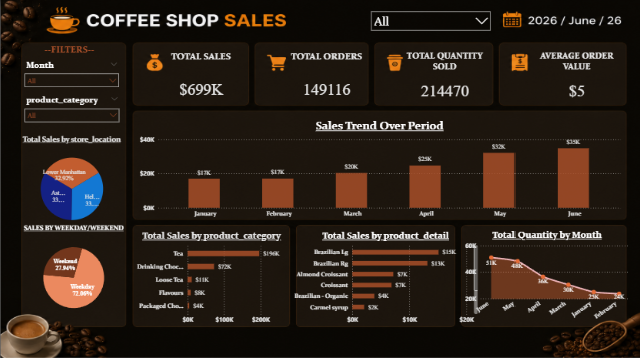

Layout of this report page (visuals, bound fields, positions):
{"tool":"powerbi","page":{"name":"Page 1","canvas":[1280,720],"ordinal":0},"visuals":[{"type":"card","title":"TOTAL SALES","fields":{"Values":["coffee_sales.Total Sales"]},"box":[280,83.3,240,150],"z":0},{"type":"card","title":"TOTAL ORDERS","fields":{"Values":["coffee_sales.Total Orders"]},"box":[572.2,83.7,157.5,150.1],"z":1000},{"type":"card","title":"TOTAL QUANTITY SOLD","fields":{"Values":["coffee_sales.Total Quantity"]},"box":[796.7,83.3,181.7,136.7],"z":2000},{"type":"card","title":"AVERAGE ORDER VALUE","fields":{"Values":["coffee_sales.Average Order Value"]},"box":[1056.7,83.3,185,136.7],"z":3000},{"type":"slicer","fields":{"Values":["coffee_sales.Month"]},"box":[38.1,102.1,207.9,81.2],"z":4000},{"type":"pieChart","title":"SALES BY WEEKDAY/WEEKEND","fields":{"Category":["coffee_sales.WeekdayWeekend"],"Y":["coffee_sales.Total Sales"]},"box":[25.8,441.7,223.9,212.9],"z":5000},{"type":"slicer","fields":{"Values":["coffee_sales.product_category"]},"box":[38.1,172.3,209.2,75.1],"z":7000},{"type":"textbox","box":[71.9,83.6,130.6,38.2],"z":8000},{"type":"clusteredColumnChart","title":"Sales Trend Over Period","fields":{"Category":["coffee_sales.transaction_date.Variation.Date Hierarchy.Month"],"Y":["coffee_sales.Total Sales"]},"box":[271.9,220.3,969.6,221.5],"z":9000},{"type":"pieChart","fields":{"Category":["coffee_sales.store_location"],"Y":["coffee_sales.Total Sales"]},"box":[30.8,251,223.9,217.8],"z":10000},{"type":"clusteredBarChart","fields":{"Category":["coffee_sales.product_category"],"Y":["coffee_sales.Total Sales"]},"box":[254.7,441.7,334.7,212.9],"z":11000},{"type":"clusteredBarChart","fields":{"Category":["coffee_sales.product_detail"],"Y":["coffee_sales.Total Sales"]},"box":[580.8,441.7,377.7,212.9],"z":12000},{"type":"areaChart","fields":{"Category":["coffee_sales.Month"],"Y":["coffee_sales.Total Quantity"]},"box":[921.2,440.8,336,214.6],"z":13000},{"type":"slicer","fields":{"Values":["coffee_sales.store_location"]},"box":[729.7,0,258.4,102.1],"z":13001}]}

Visuals, with their boxes in screenshot pixels (x1, y1, x2, y2), scaled from the page's 1280x720 canvas onto the 640x358 screenshot:
"TOTAL SALES" card: locate(140, 41, 260, 116)
"TOTAL ORDERS" card: locate(286, 42, 365, 116)
"TOTAL QUANTITY SOLD" card: locate(398, 41, 489, 109)
"AVERAGE ORDER VALUE" card: locate(528, 41, 621, 109)
slicer - coffee_sales.Month: locate(19, 51, 123, 91)
"SALES BY WEEKDAY/WEEKEND" pieChart: locate(13, 220, 125, 325)
slicer - coffee_sales.product_category: locate(19, 86, 124, 123)
textbox: locate(36, 42, 101, 61)
"Sales Trend Over Period" clusteredColumnChart: locate(136, 110, 621, 220)
pieChart - coffee_sales.store_location x coffee_sales.Total Sales: locate(15, 125, 127, 233)
clusteredBarChart - coffee_sales.product_category x coffee_sales.Total Sales: locate(127, 220, 295, 325)
clusteredBarChart - coffee_sales.product_detail x coffee_sales.Total Sales: locate(290, 220, 479, 325)
areaChart - coffee_sales.Month x coffee_sales.Total Quantity: locate(461, 219, 629, 326)
slicer - coffee_sales.store_location: locate(365, 0, 494, 51)
